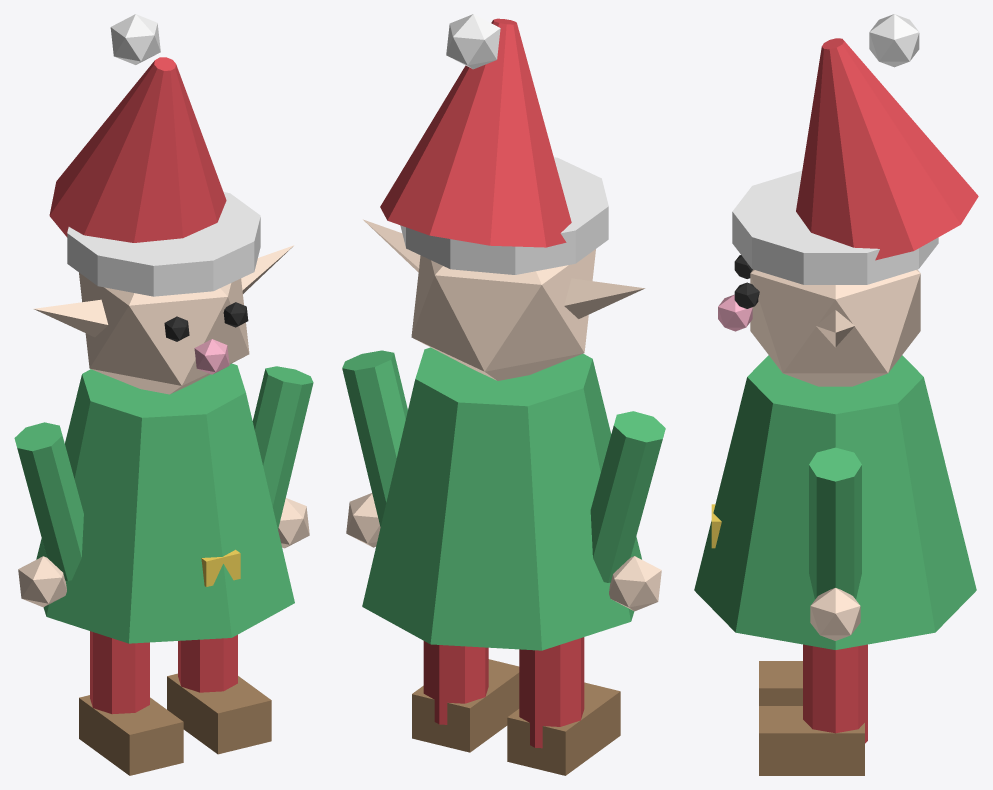
Rendered from Duende.fbx.
3 renders of one model, left to right at view 1: azimuth 30°, elevation 25°; view 2: azimuth 150°, elevation 25°; view 3: azimuth 270°, elevation 25°, orthographic. The views are drawn at different scales.
Parts seen in each view (by area): view 1: Tunica, Gorro, Cabeza, BordeGorro, BrazoI, BotaI, BotaD, BrazoD, PiernaI, PiernaD, Borla, ManoI (+5 smaller); view 2: Tunica, Gorro, Cabeza, BordeGorro, BrazoI, BrazoD, BotaI, PiernaI, BotaD, PiernaD, Borla, ManoI (+3 smaller); view 3: Tunica, Gorro, Cabeza, BordeGorro, BrazoD, BotaD, PiernaD, Borla, ManoD, BotaI, Nariz, OrejaD (+1 smaller).
Boxes of the visible parts, bbox=[...] form: Tunica: bbox=[36, 363, 294, 643]; Gorro: bbox=[49, 57, 226, 242]; Cabeza: bbox=[79, 272, 249, 394]; BordeGorro: bbox=[67, 192, 260, 296]; BrazoI: bbox=[14, 422, 83, 580]; BotaI: bbox=[79, 695, 183, 775]; BotaD: bbox=[167, 673, 271, 754]; BrazoD: bbox=[252, 366, 313, 529]; PiernaI: bbox=[90, 631, 149, 714]; PiernaD: bbox=[178, 634, 237, 692]; Borla: bbox=[110, 14, 160, 64]; ManoI: bbox=[18, 556, 66, 607]; Tunica: bbox=[362, 347, 641, 650]; Gorro: bbox=[380, 18, 571, 247]; Cabeza: bbox=[411, 249, 595, 380]; BordeGorro: bbox=[400, 157, 608, 274]; BrazoI: bbox=[590, 411, 665, 582]; BrazoD: bbox=[342, 350, 407, 526]; BotaI: bbox=[507, 682, 620, 775]; PiernaI: bbox=[519, 637, 584, 748]; BotaD: bbox=[412, 659, 519, 752]; PiernaD: bbox=[423, 641, 488, 724]; Borla: bbox=[446, 14, 500, 69]; ManoI: bbox=[609, 556, 661, 611]; Tunica: bbox=[694, 355, 976, 649]; Gorro: bbox=[796, 38, 978, 260]; Cabeza: bbox=[750, 269, 920, 386]; BordeGorro: bbox=[732, 170, 938, 284]; BrazoD: bbox=[809, 447, 861, 599]; BotaD: bbox=[759, 706, 864, 775]; PiernaD: bbox=[803, 644, 867, 743]; Borla: bbox=[869, 14, 919, 67]; ManoD: bbox=[810, 588, 860, 640]; BotaI: bbox=[759, 661, 802, 705]; Nariz: bbox=[718, 294, 752, 331]; OrejaD: bbox=[816, 310, 854, 347].
Bounding box in the file's own units: 0.5994 × 1.36 × 0.4834.
